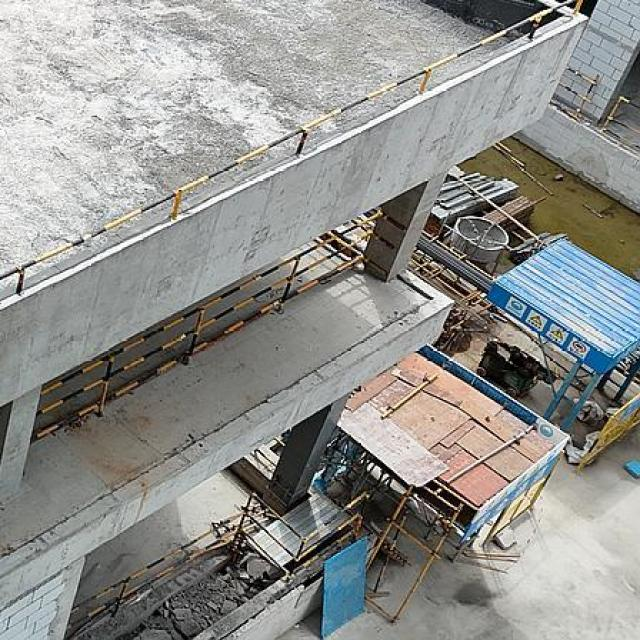edge_guardrail: (0, 0, 583, 296), (29, 211, 385, 445), (65, 511, 251, 629), (550, 67, 600, 120), (600, 95, 640, 149), (250, 449, 277, 474), (274, 436, 286, 447)
